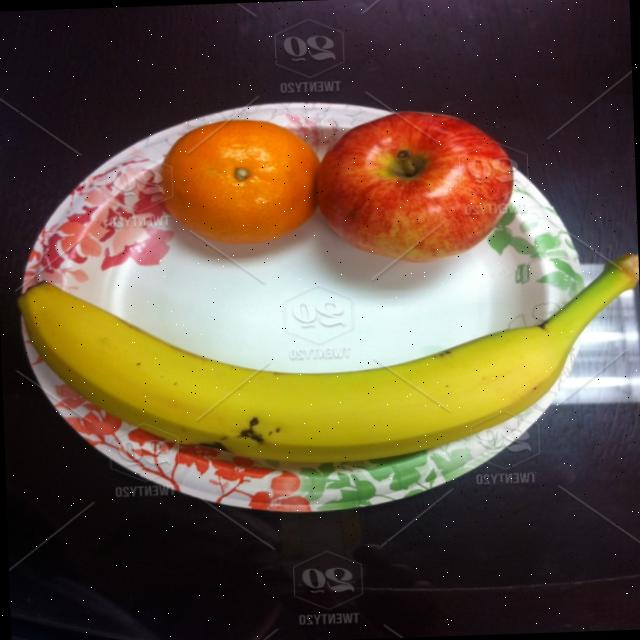Apel: (313, 107, 517, 266)
Jeruk: (158, 114, 323, 246)
Pisang: (17, 250, 640, 472)
